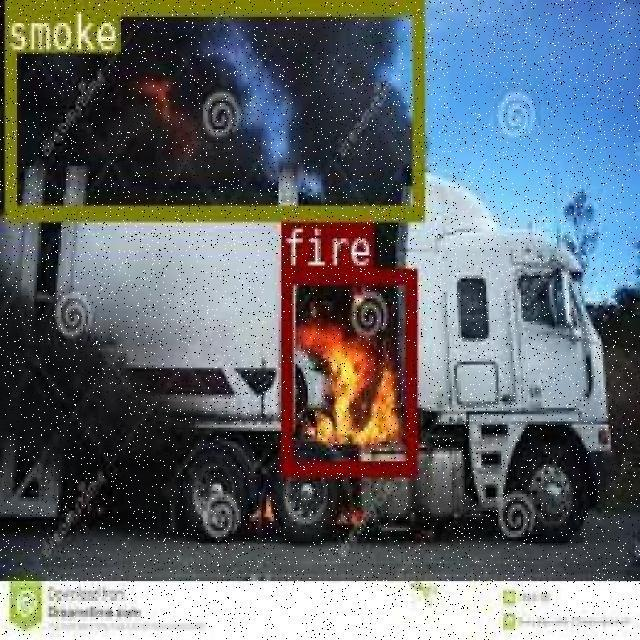Smoke: (3, 0, 421, 215)
